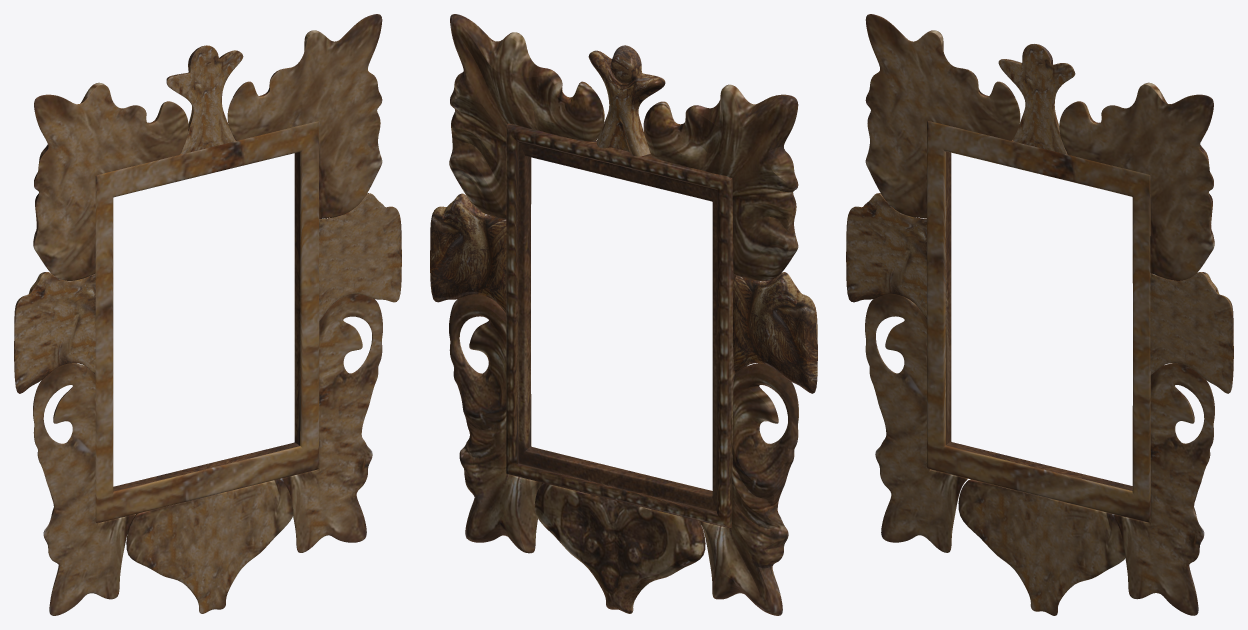
The model's file is WoodenFrame.glb.
3 views of the same model, side by side, from view 1: azimuth 30°, elevation 25°; view 2: azimuth 150°, elevation 25°; view 3: azimuth 330°, elevation 25° (orthographic).
Parts seen in each view (by area): view 1: 10305_picture_frame_V2_max2011_it2; view 2: 10305_picture_frame_V2_max2011_it2; view 3: 10305_picture_frame_V2_max2011_it2.
Boxes of the visible parts, x1,y1,x2,y2 form: 10305_picture_frame_V2_max2011_it2: (14, 14, 401, 615); 10305_picture_frame_V2_max2011_it2: (430, 14, 817, 615); 10305_picture_frame_V2_max2011_it2: (846, 14, 1233, 615).
Bounding box in the file's own units: 4.99 × 6.99 × 0.1893.
Materials: 1 (1 with a texture image).
